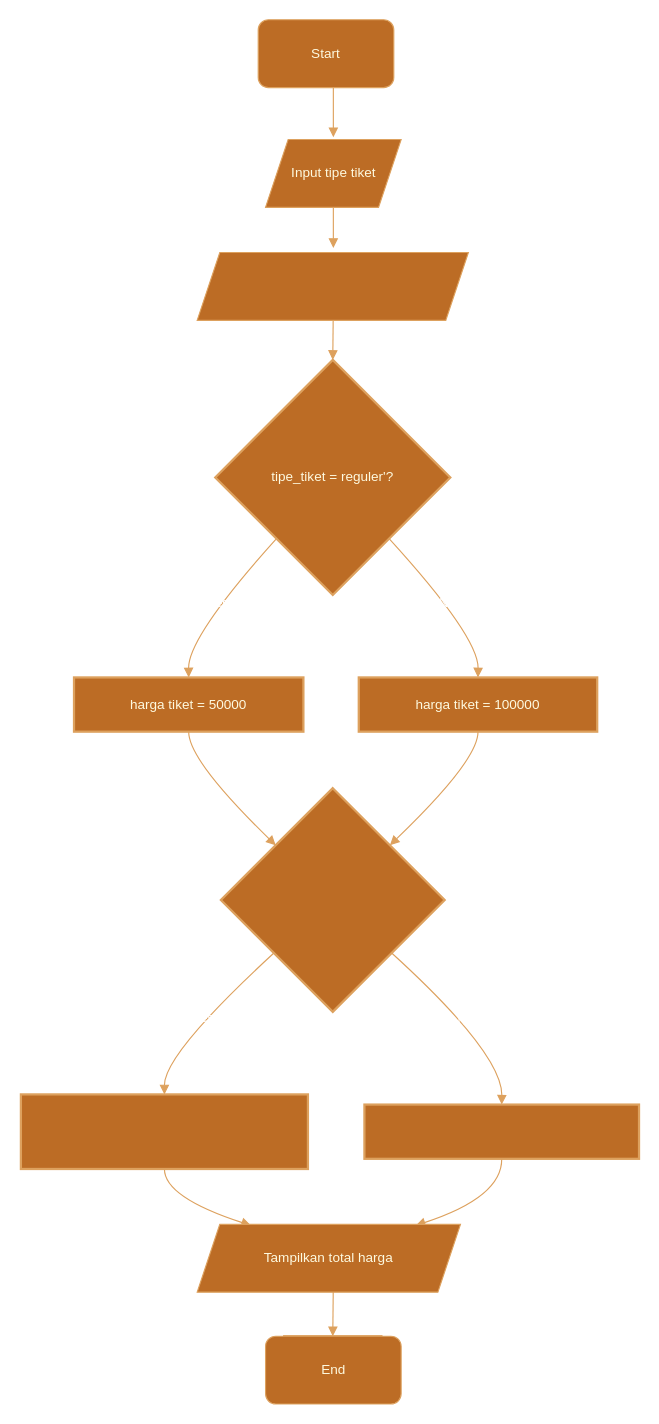
Image size: 659x1424. Some labels were removed from this diagram. Each missing label, with the centre of its shape:
Input status member: point 332,285
status member = 'y'?: point 332,899
total harga = harga tiket * 0.8: point 163,1131
total harga = harga tiket tetap: point 501,1131
